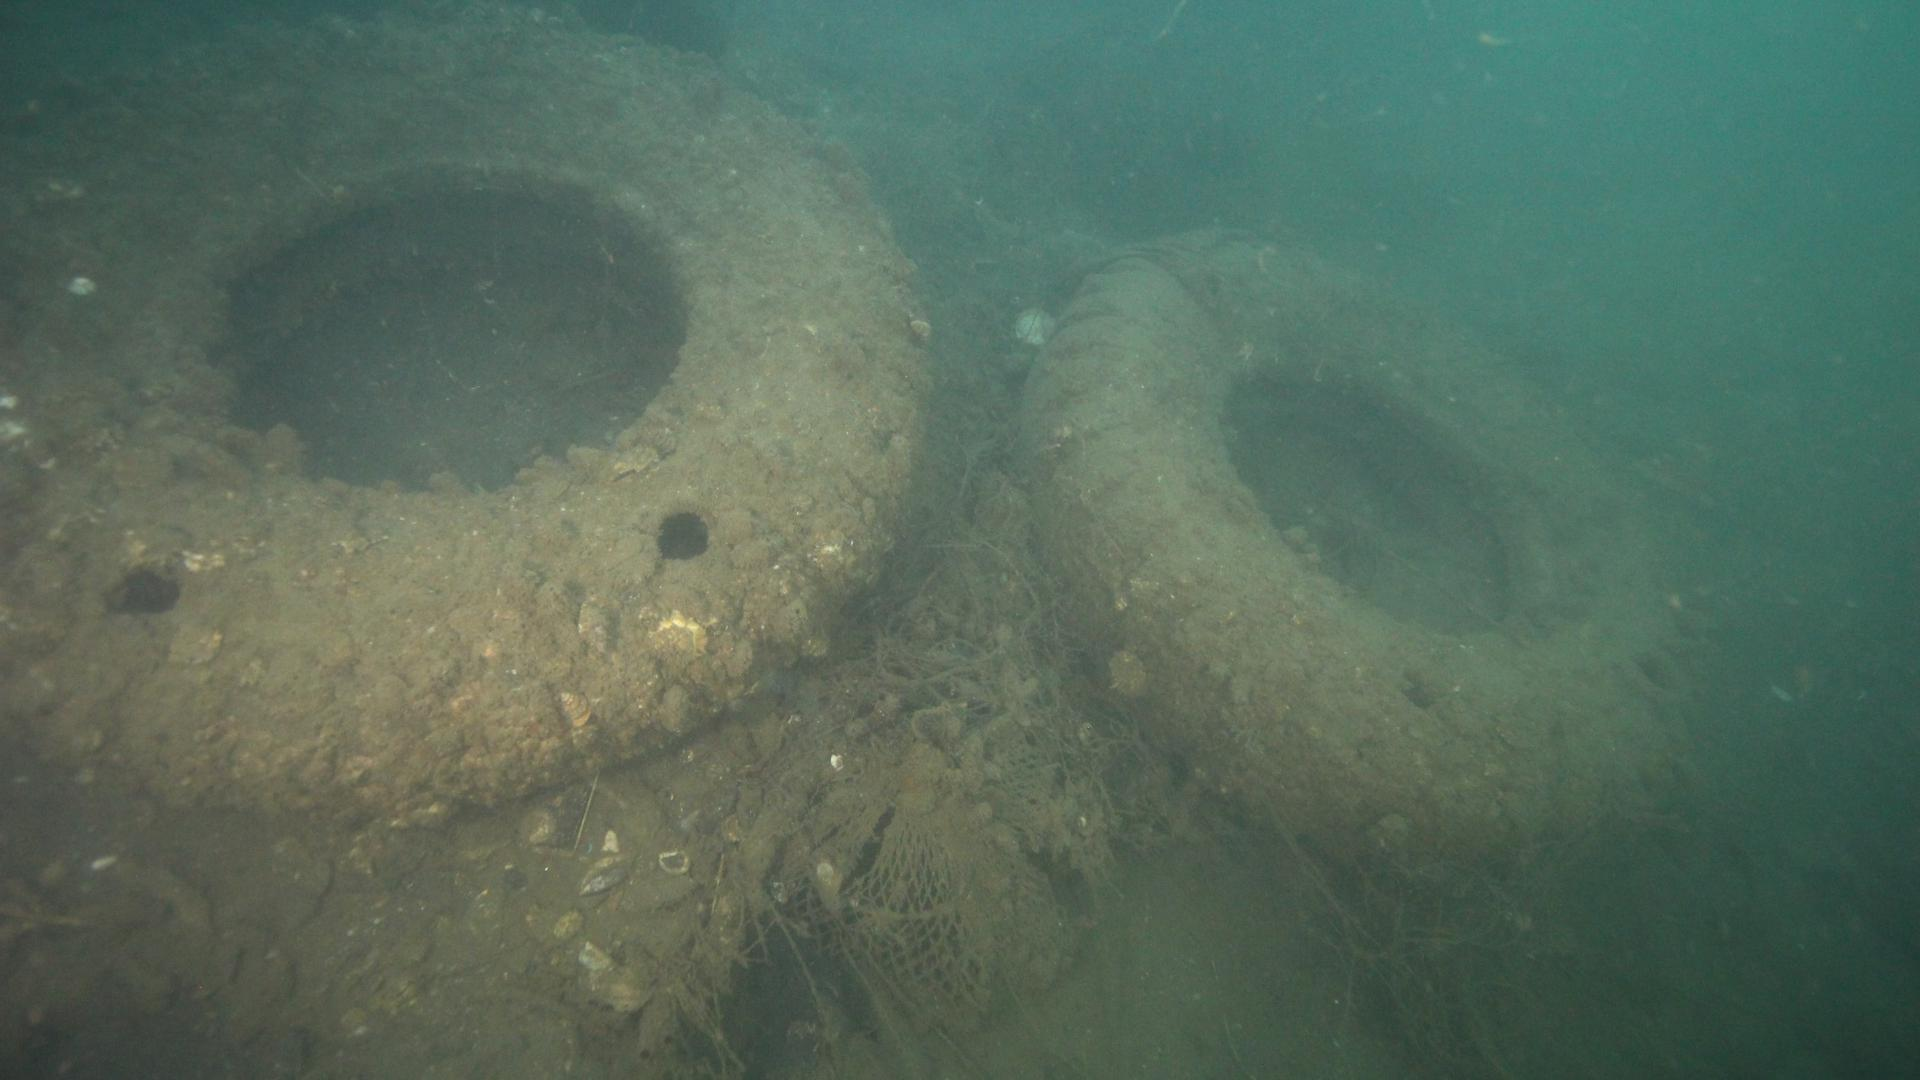fish net: (662, 804, 990, 1044)
tire: (3, 26, 934, 814), (1013, 224, 1713, 915)
